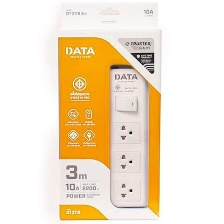book: (55, 0, 162, 220)
three_eye_plug: (103, 59, 152, 213)
